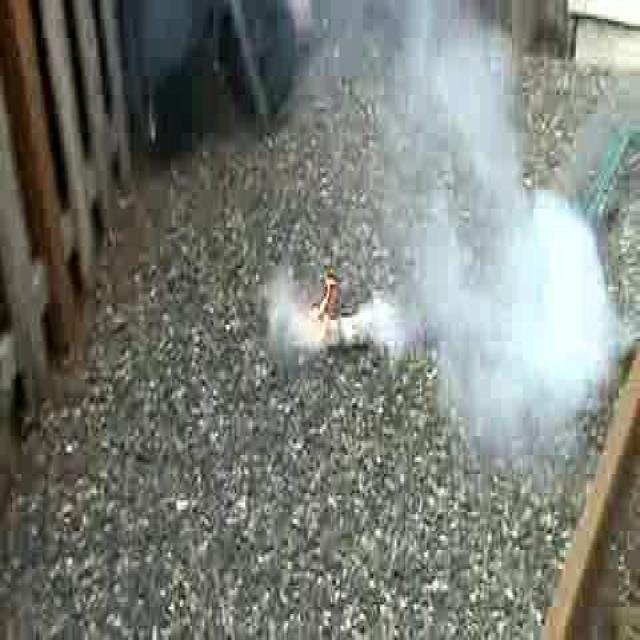Smoke: (253, 0, 639, 474)
